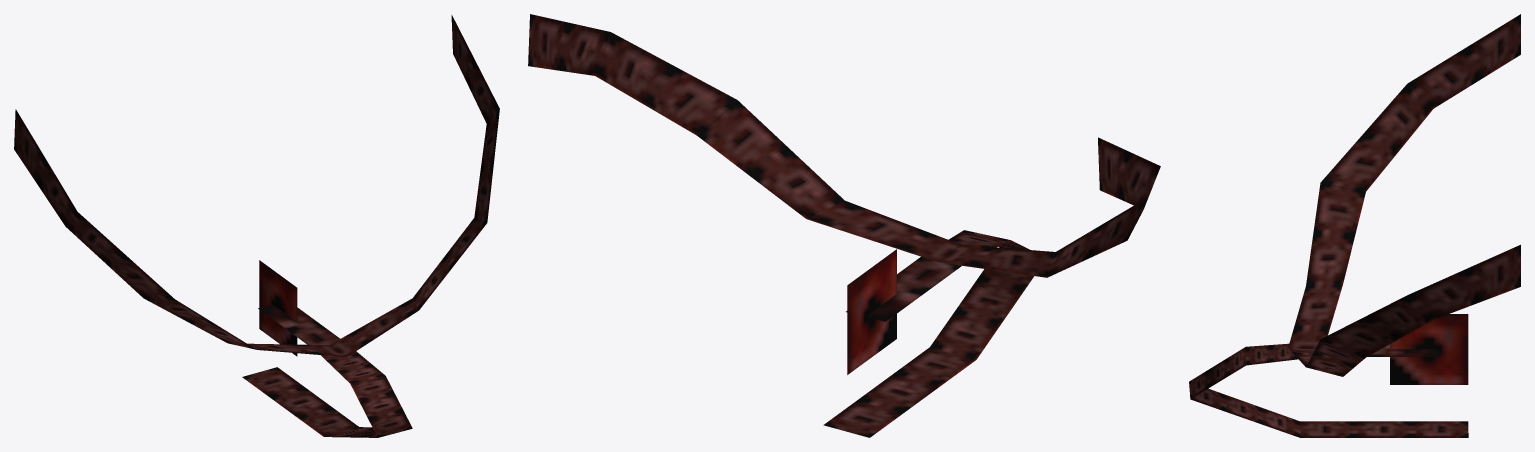
Rendered from SM_FireHydrantExtra.fbx.
3 renders of one model, left to right at view 1: azimuth 30°, elevation 25°; view 2: azimuth 150°, elevation 25°; view 3: azimuth 270°, elevation 25°, orthographic. The views are drawn at different scales.
Parts seen in each view (by area): view 1: FireHydrantExtra; view 2: FireHydrantExtra; view 3: FireHydrantExtra.
Boxes of the visible parts, bbox=[...] form: FireHydrantExtra: bbox=[14, 15, 499, 437]; FireHydrantExtra: bbox=[528, 14, 1160, 437]; FireHydrantExtra: bbox=[1189, 14, 1520, 437].
Size of the model in its own units: 104 by 67.87 by 66.57.
